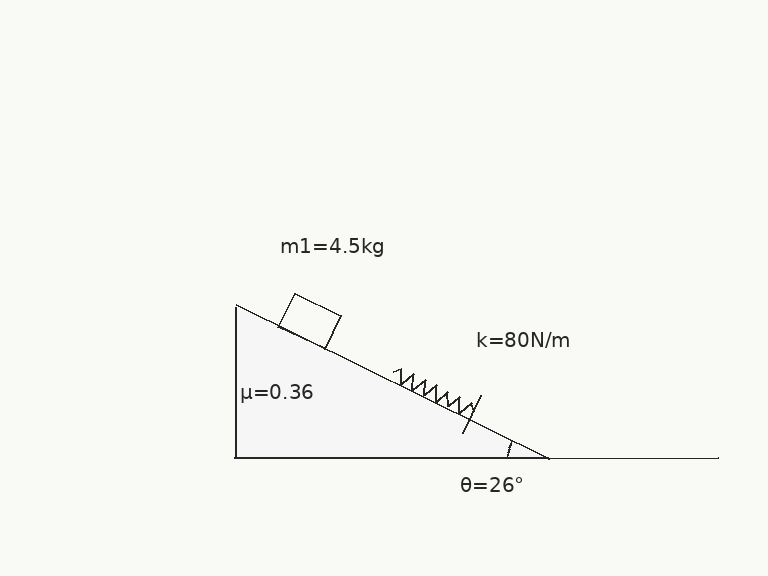block: (276, 291, 343, 351)
ramp: (233, 303, 550, 460)
spring: (390, 367, 476, 414)
